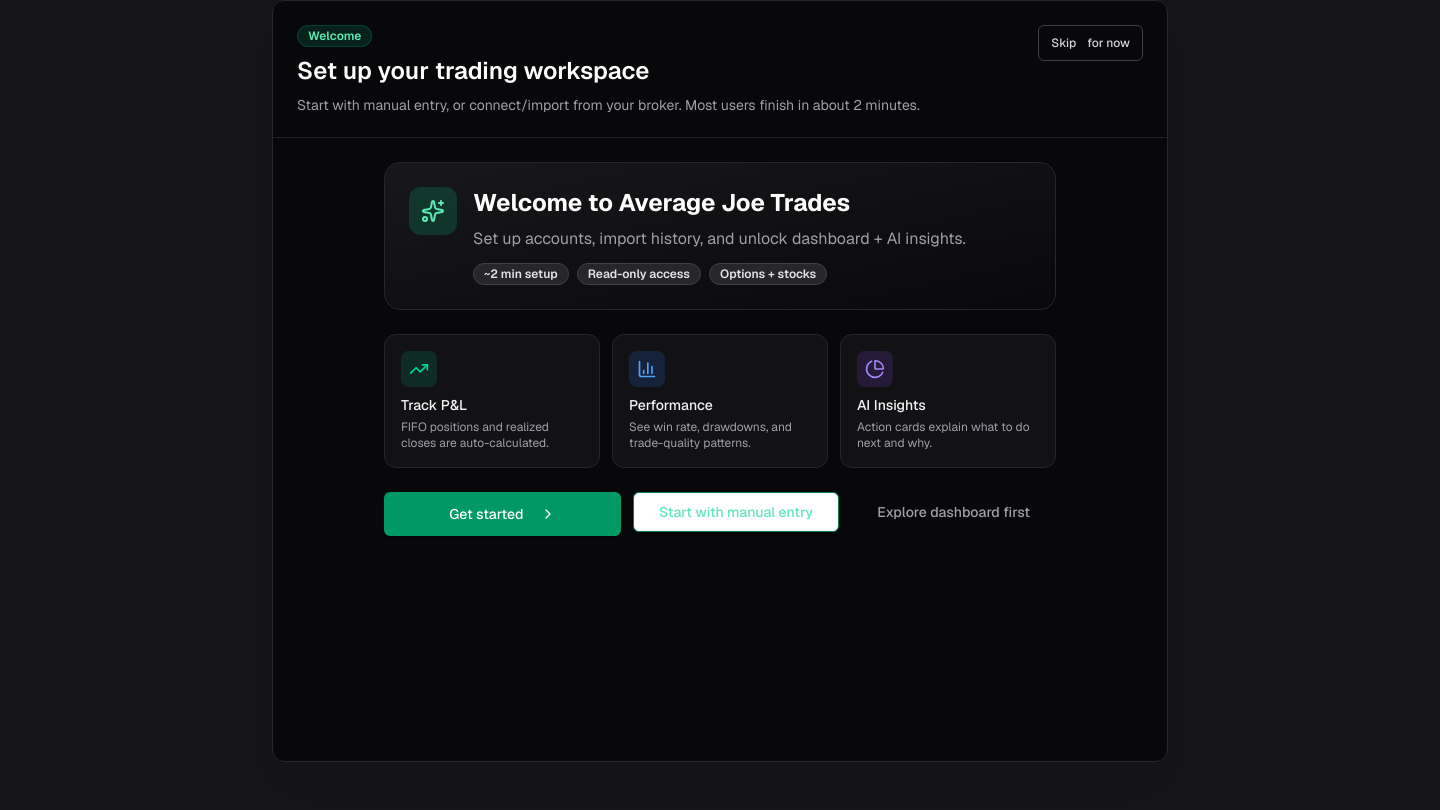
Test: WelcomeModal › lets users start with manual entry immediately
The image size is (1440, 810).
Click the button "Start with manual entry" at (736, 512), box [633,492,839,532]
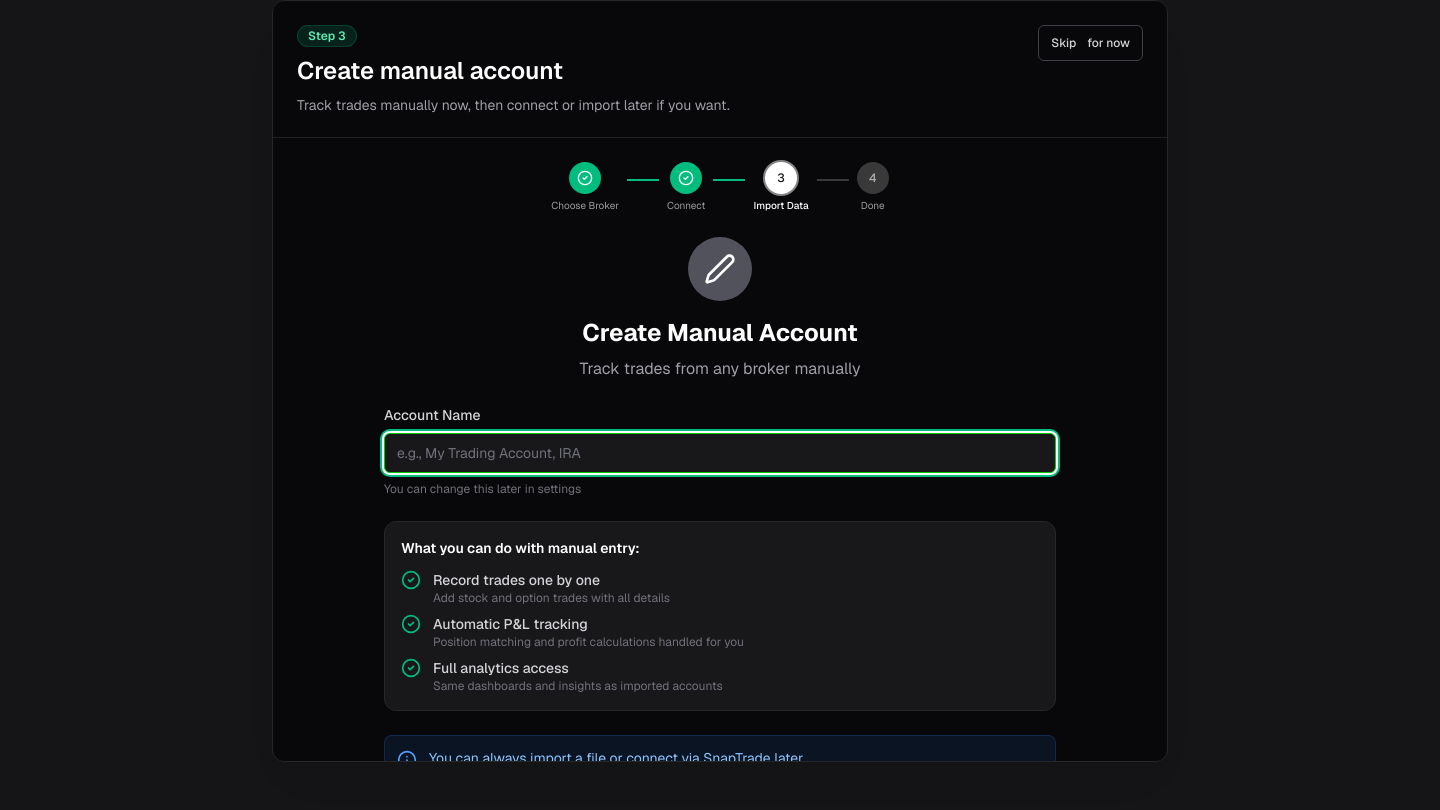
Expected: the heading "Create Manual Account" is shown, [582,317,858,348]
